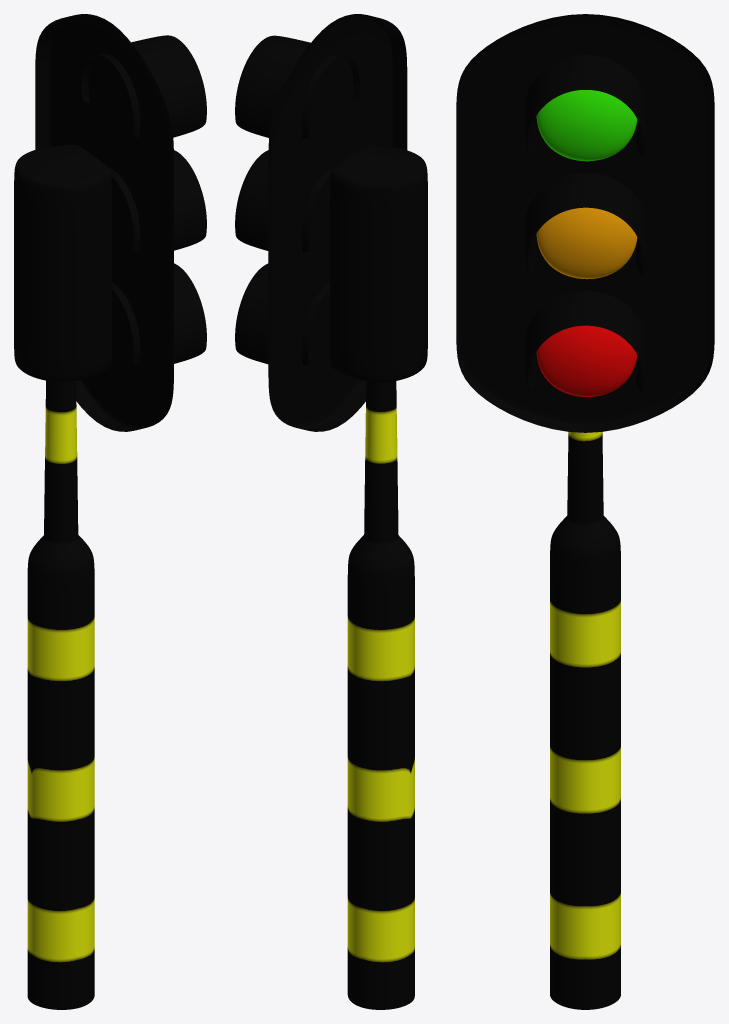
Rendered from Stoplicht_V2.fbx.
3 renders of one model, left to right at view 1: azimuth 30°, elevation 25°; view 2: azimuth 150°, elevation 25°; view 3: azimuth 270°, elevation 25°, orthographic. The views are drawn at different scales.
Parts seen in each view (by area): view 1: Light_Housing, Pole; view 2: Light_Housing, Pole; view 3: Light_Housing, Pole, Orange, Red, Green.
Boxes of the visible parts, x1,y1,x2,y2 form: Light_Housing: [14, 14, 206, 431]; Pole: [27, 380, 94, 1009]; Light_Housing: [235, 14, 427, 431]; Pole: [347, 381, 414, 1009]; Light_Housing: [456, 14, 714, 432]; Pole: [550, 432, 620, 1009]; Orange: [536, 207, 637, 279]; Red: [536, 325, 637, 396]; Green: [536, 90, 637, 161].
Bounding box in the file's own units: 44.06 × 255 × 59.58.
